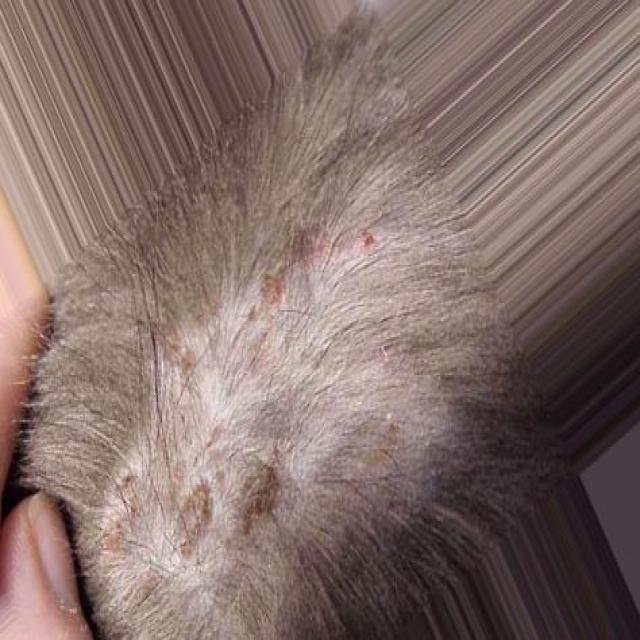di ung bo chet: (50, 240, 538, 640)
